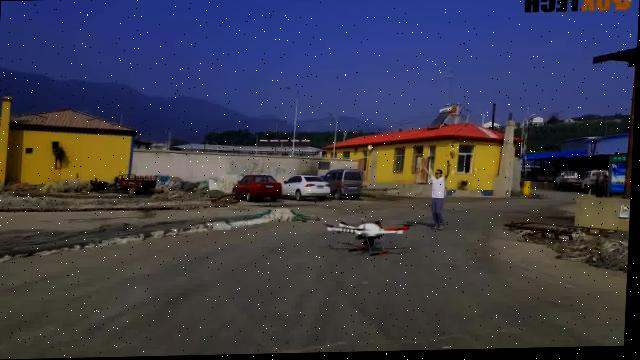drone: (325, 218, 414, 257)
